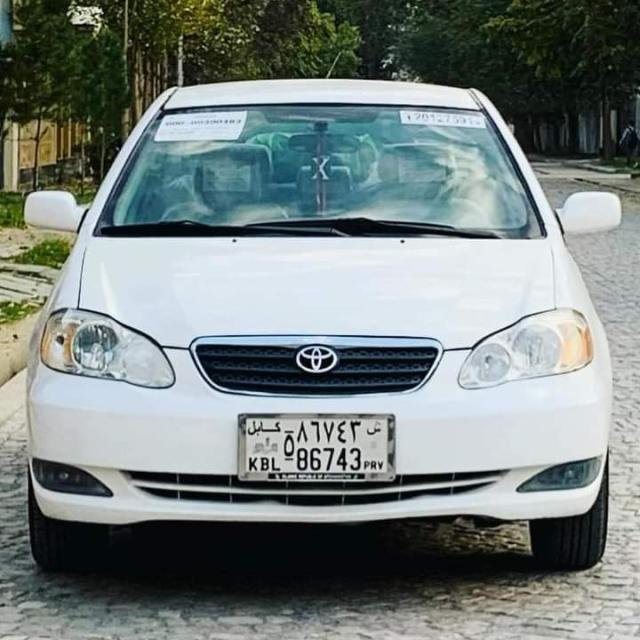Plate: (239, 416, 394, 479)
